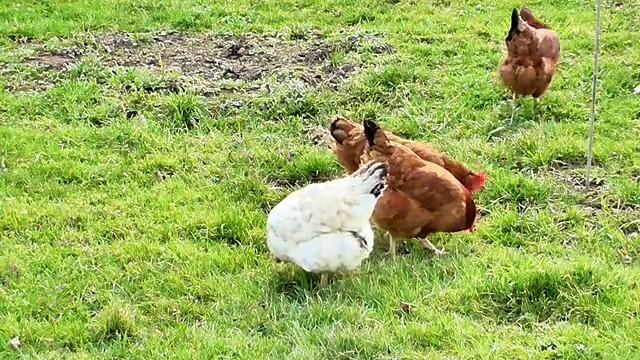Normal: (318, 112, 499, 249), (263, 156, 393, 284), (498, 7, 563, 105)
